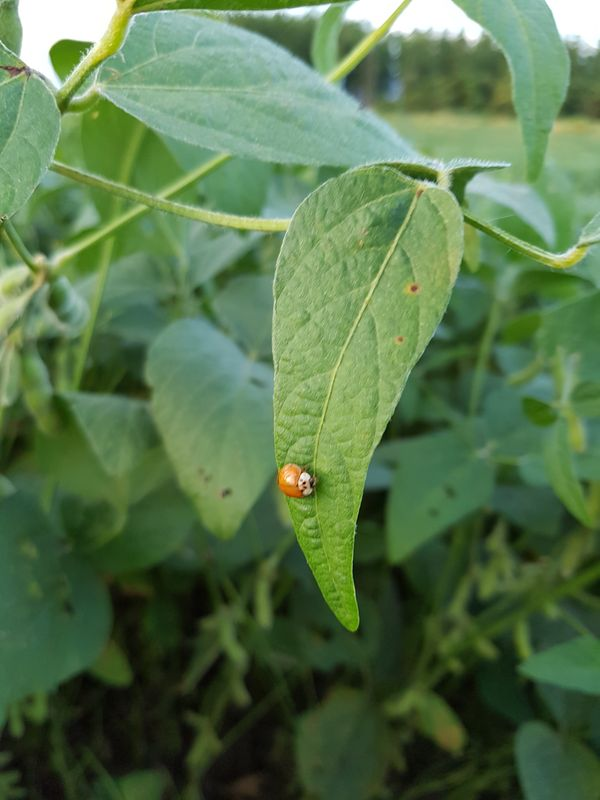Coccinellidae: (263, 451, 330, 517)
